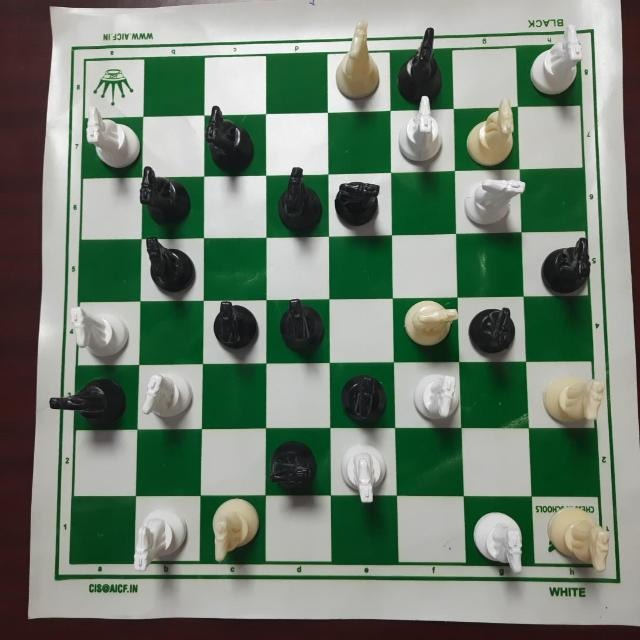black-knight: (391, 20, 459, 102), (41, 366, 126, 423), (255, 434, 327, 495), (271, 162, 325, 230), (134, 165, 194, 223), (330, 167, 387, 227), (198, 104, 252, 166), (207, 299, 263, 358), (135, 235, 197, 287), (464, 304, 519, 362), (338, 374, 390, 433), (537, 236, 598, 286), (272, 294, 324, 351)
white-knight: (404, 176, 639, 301), (521, 22, 584, 100), (548, 508, 612, 578), (328, 17, 378, 105), (126, 502, 192, 568), (536, 374, 603, 438), (65, 302, 137, 360), (476, 495, 527, 575), (205, 488, 262, 559), (463, 98, 521, 167), (459, 172, 523, 230), (339, 442, 391, 511), (73, 109, 135, 166), (395, 98, 447, 162), (398, 299, 459, 353), (138, 370, 194, 423), (410, 376, 462, 426)
